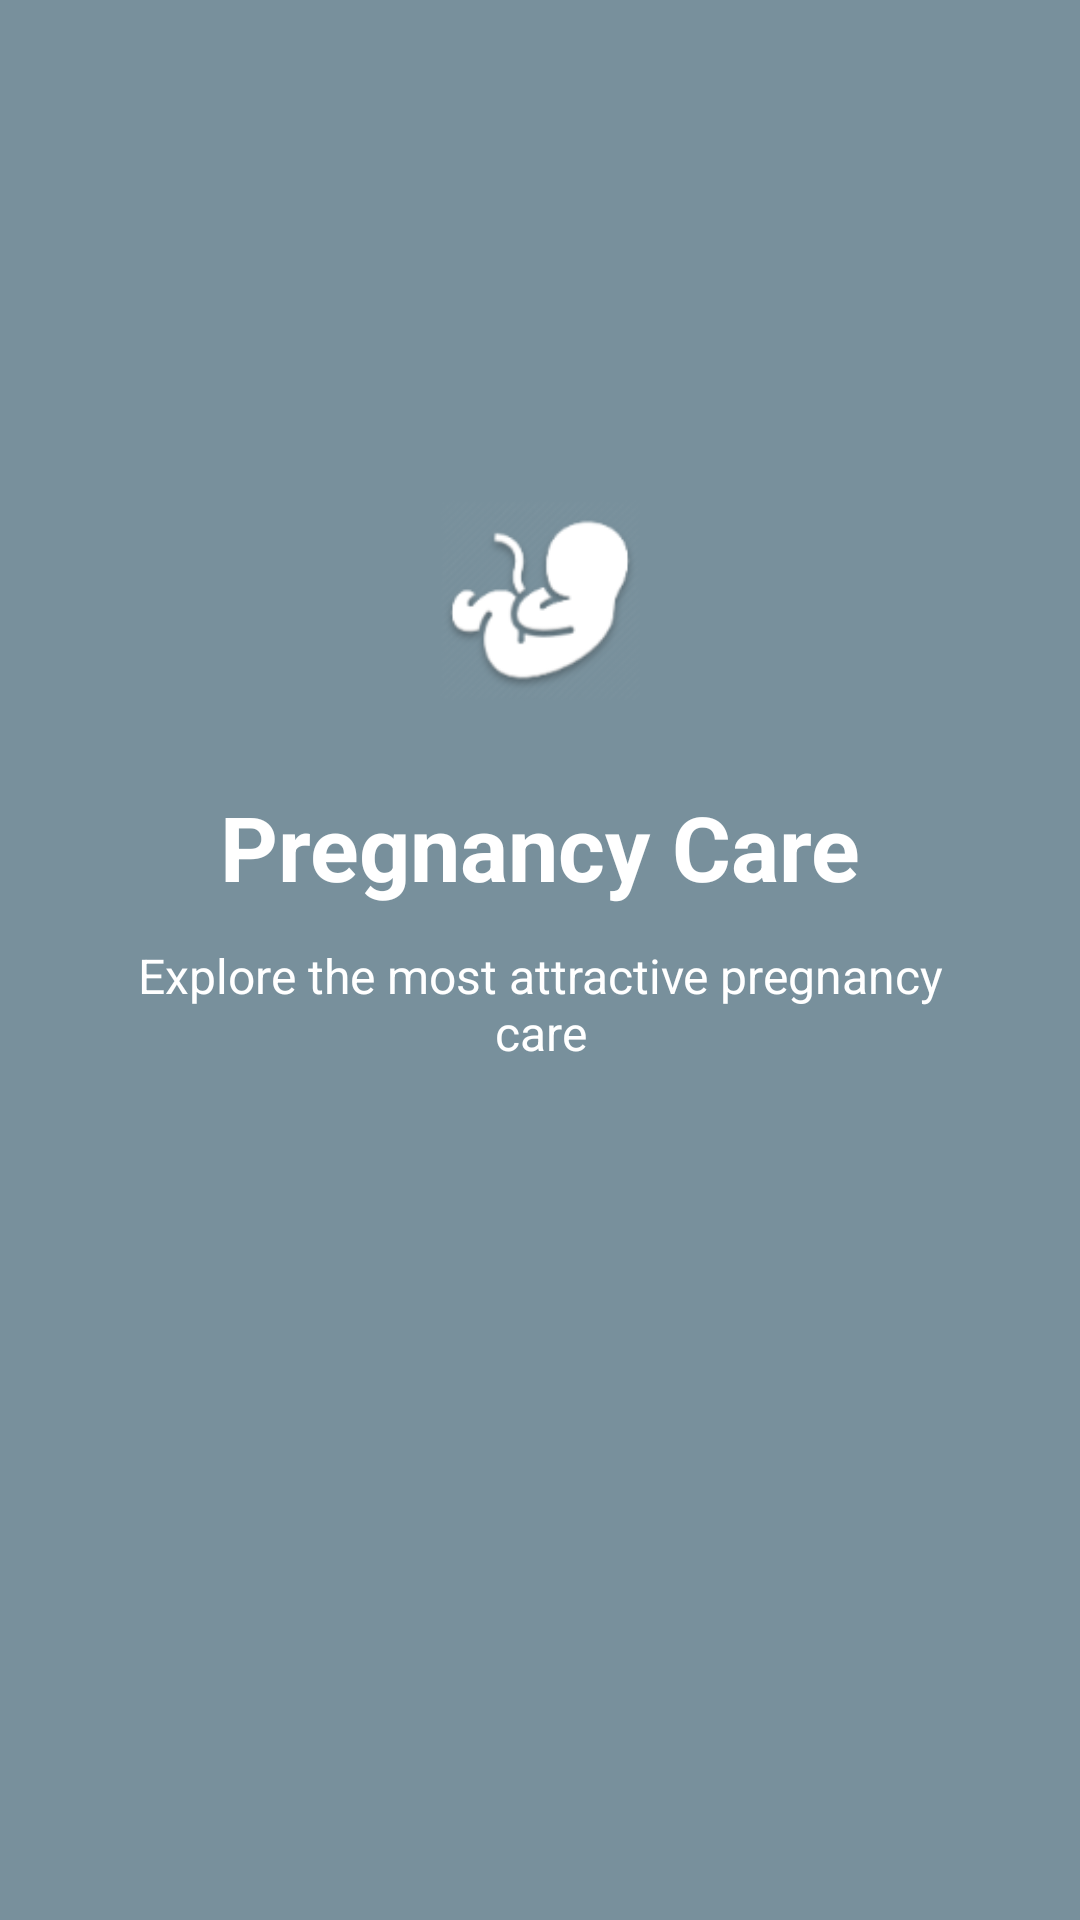

Icons on this 1080×1920 Android screen, each with the point to tap as point (x, y):
pcare: point (540, 601)
